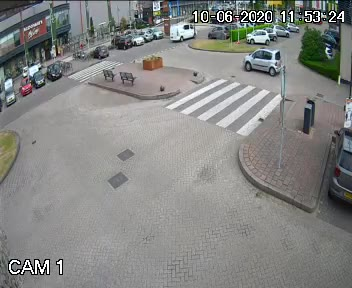car: (237, 40, 286, 76), (161, 18, 206, 45)
